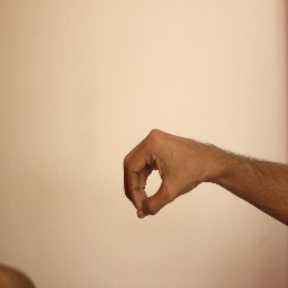O: (122, 125, 208, 220)
